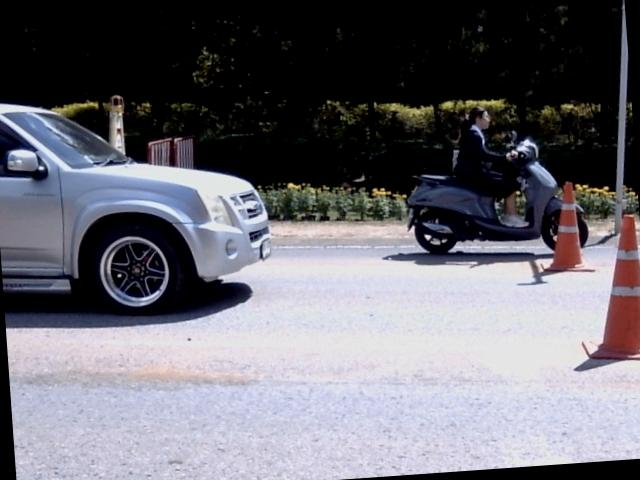motor: (406, 139, 561, 252)
no-helmet: (466, 101, 490, 128)
person: (453, 106, 525, 226)
